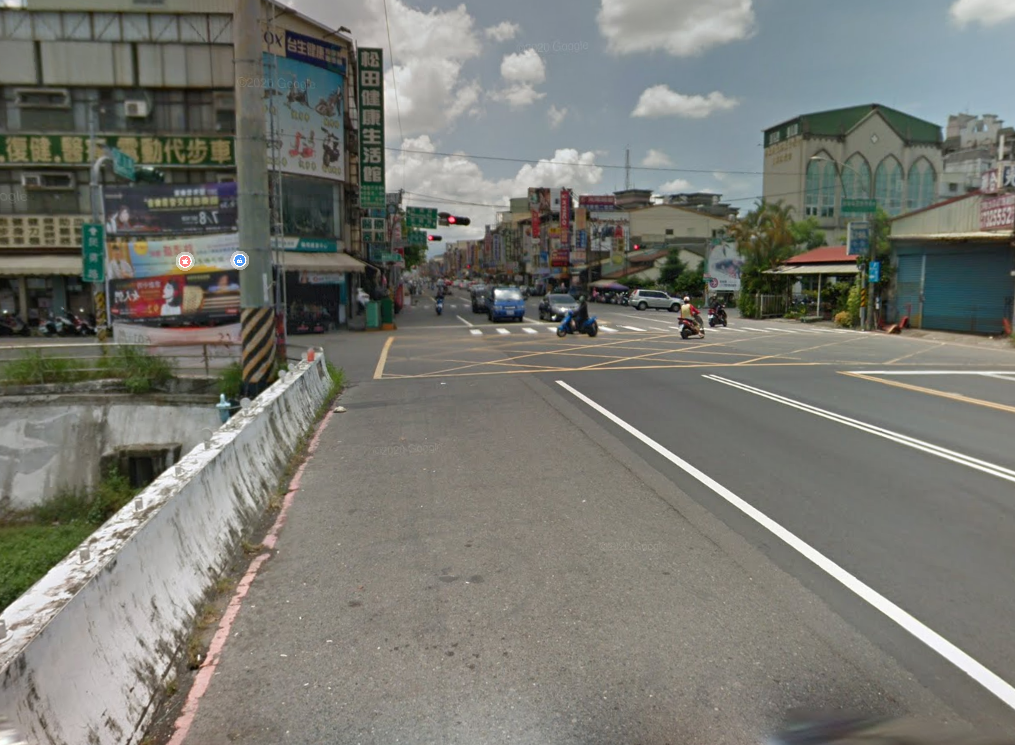red: (443, 212, 471, 226), (428, 232, 442, 241), (633, 243, 647, 251)
